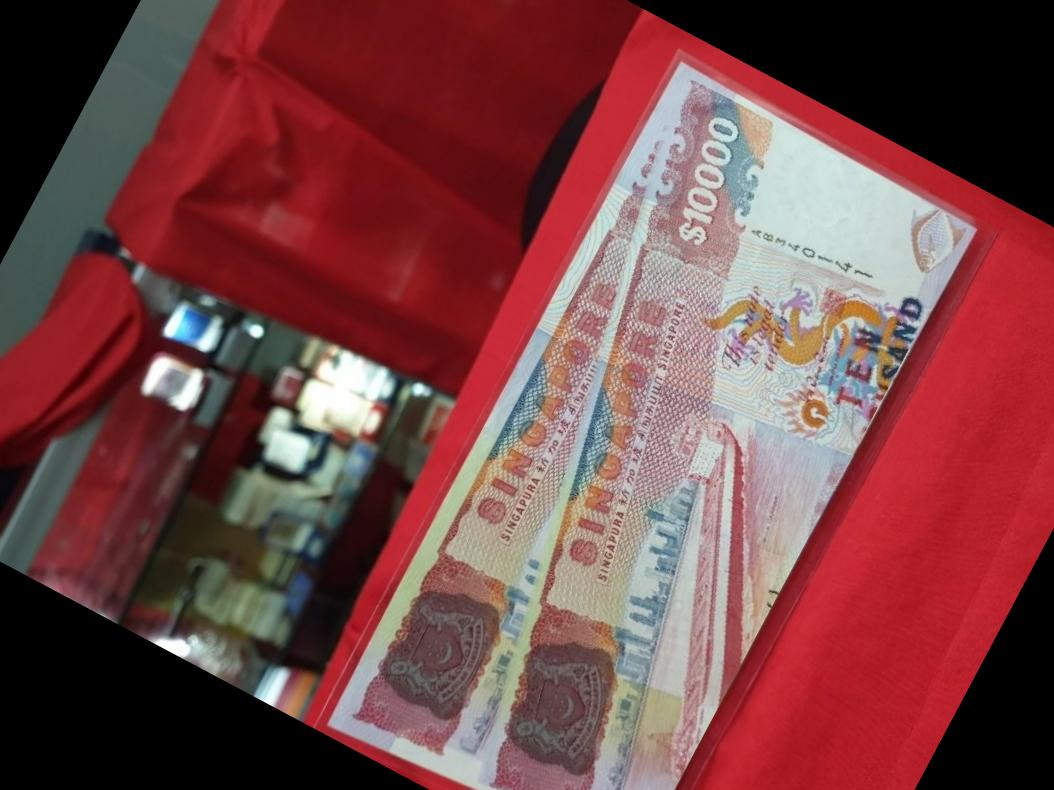10000SingaporeDollar: (339, 73, 972, 790)
